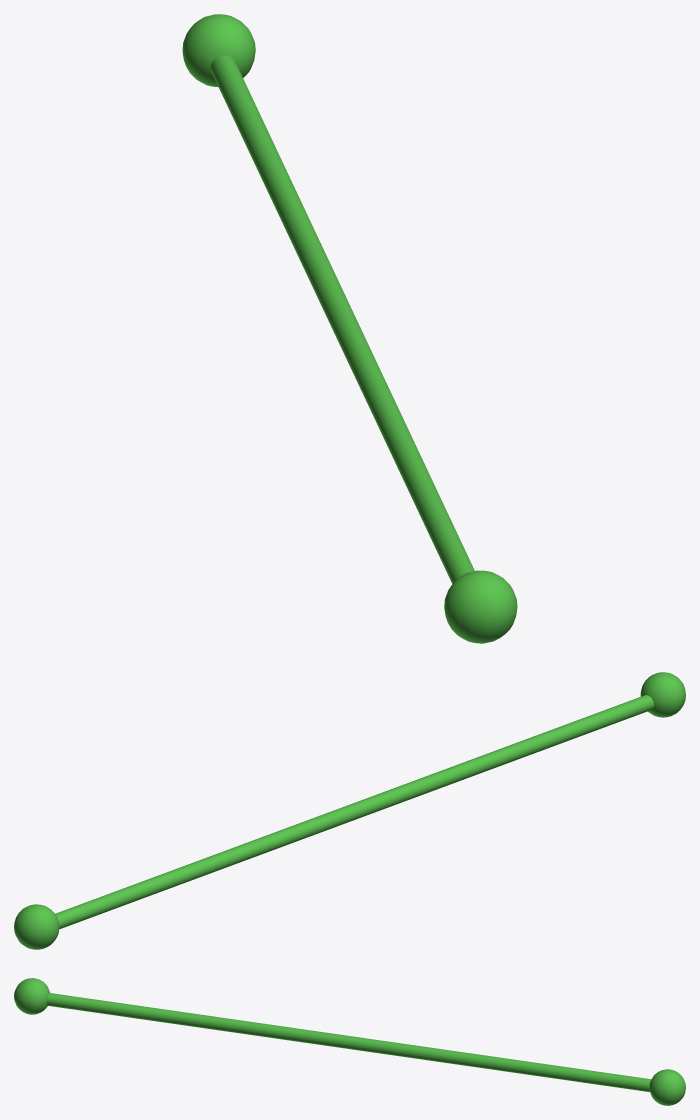
Rendered from line_green.glb.
The picture shows the model from 3 angles, top to bottom: view 1: azimuth 30°, elevation 25°; view 2: azimuth 150°, elevation 25°; view 3: azimuth 270°, elevation 25°; orthographic projection. The views are drawn at different scales.
Visible parts, largest first — view 1: NurbsPath.007, Sphere.015, Sphere.003; view 2: NurbsPath.007, Sphere.003, Sphere.015; view 3: NurbsPath.007, Sphere.003, Sphere.015.
Part boxes in pixels (x1,y1,x2,y2): NurbsPath.007: [210, 55, 474, 583]; Sphere.015: [444, 570, 517, 643]; Sphere.003: [182, 14, 255, 87]; NurbsPath.007: [55, 695, 654, 929]; Sphere.003: [14, 904, 59, 949]; Sphere.015: [640, 672, 685, 717]; NurbsPath.007: [47, 993, 651, 1091]; Sphere.003: [649, 1069, 685, 1105]; Sphere.015: [14, 978, 49, 1014].
Bounding box in the file's own units: 1.16 × 0.1688 × 3.1.
